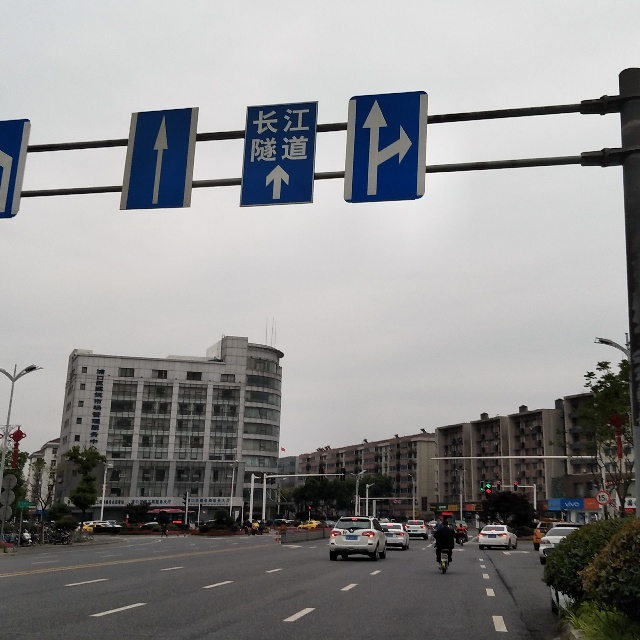straight: (132, 109, 186, 209)
